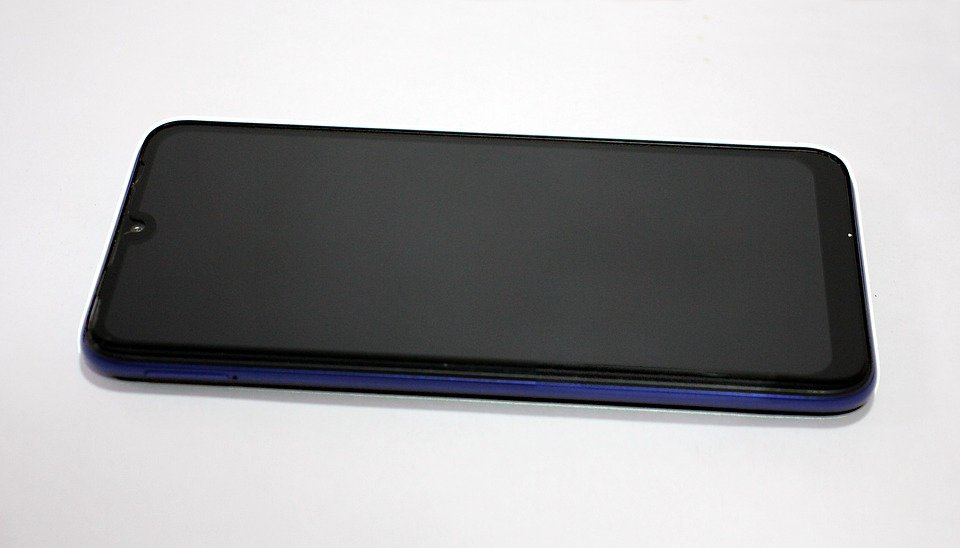Phone: (77, 118, 881, 420)
